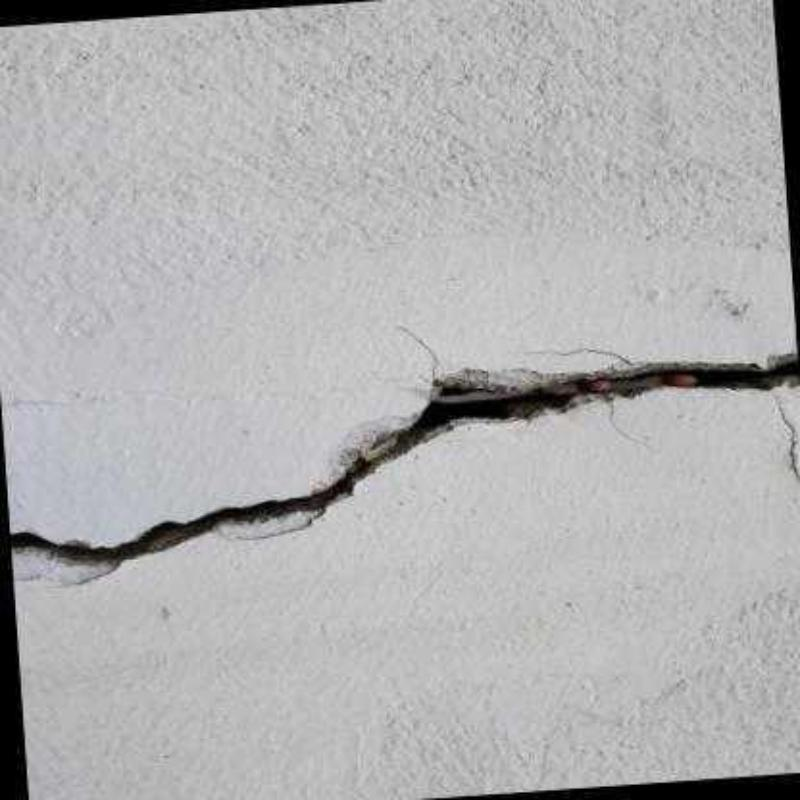pothole: (9, 361, 799, 563)
